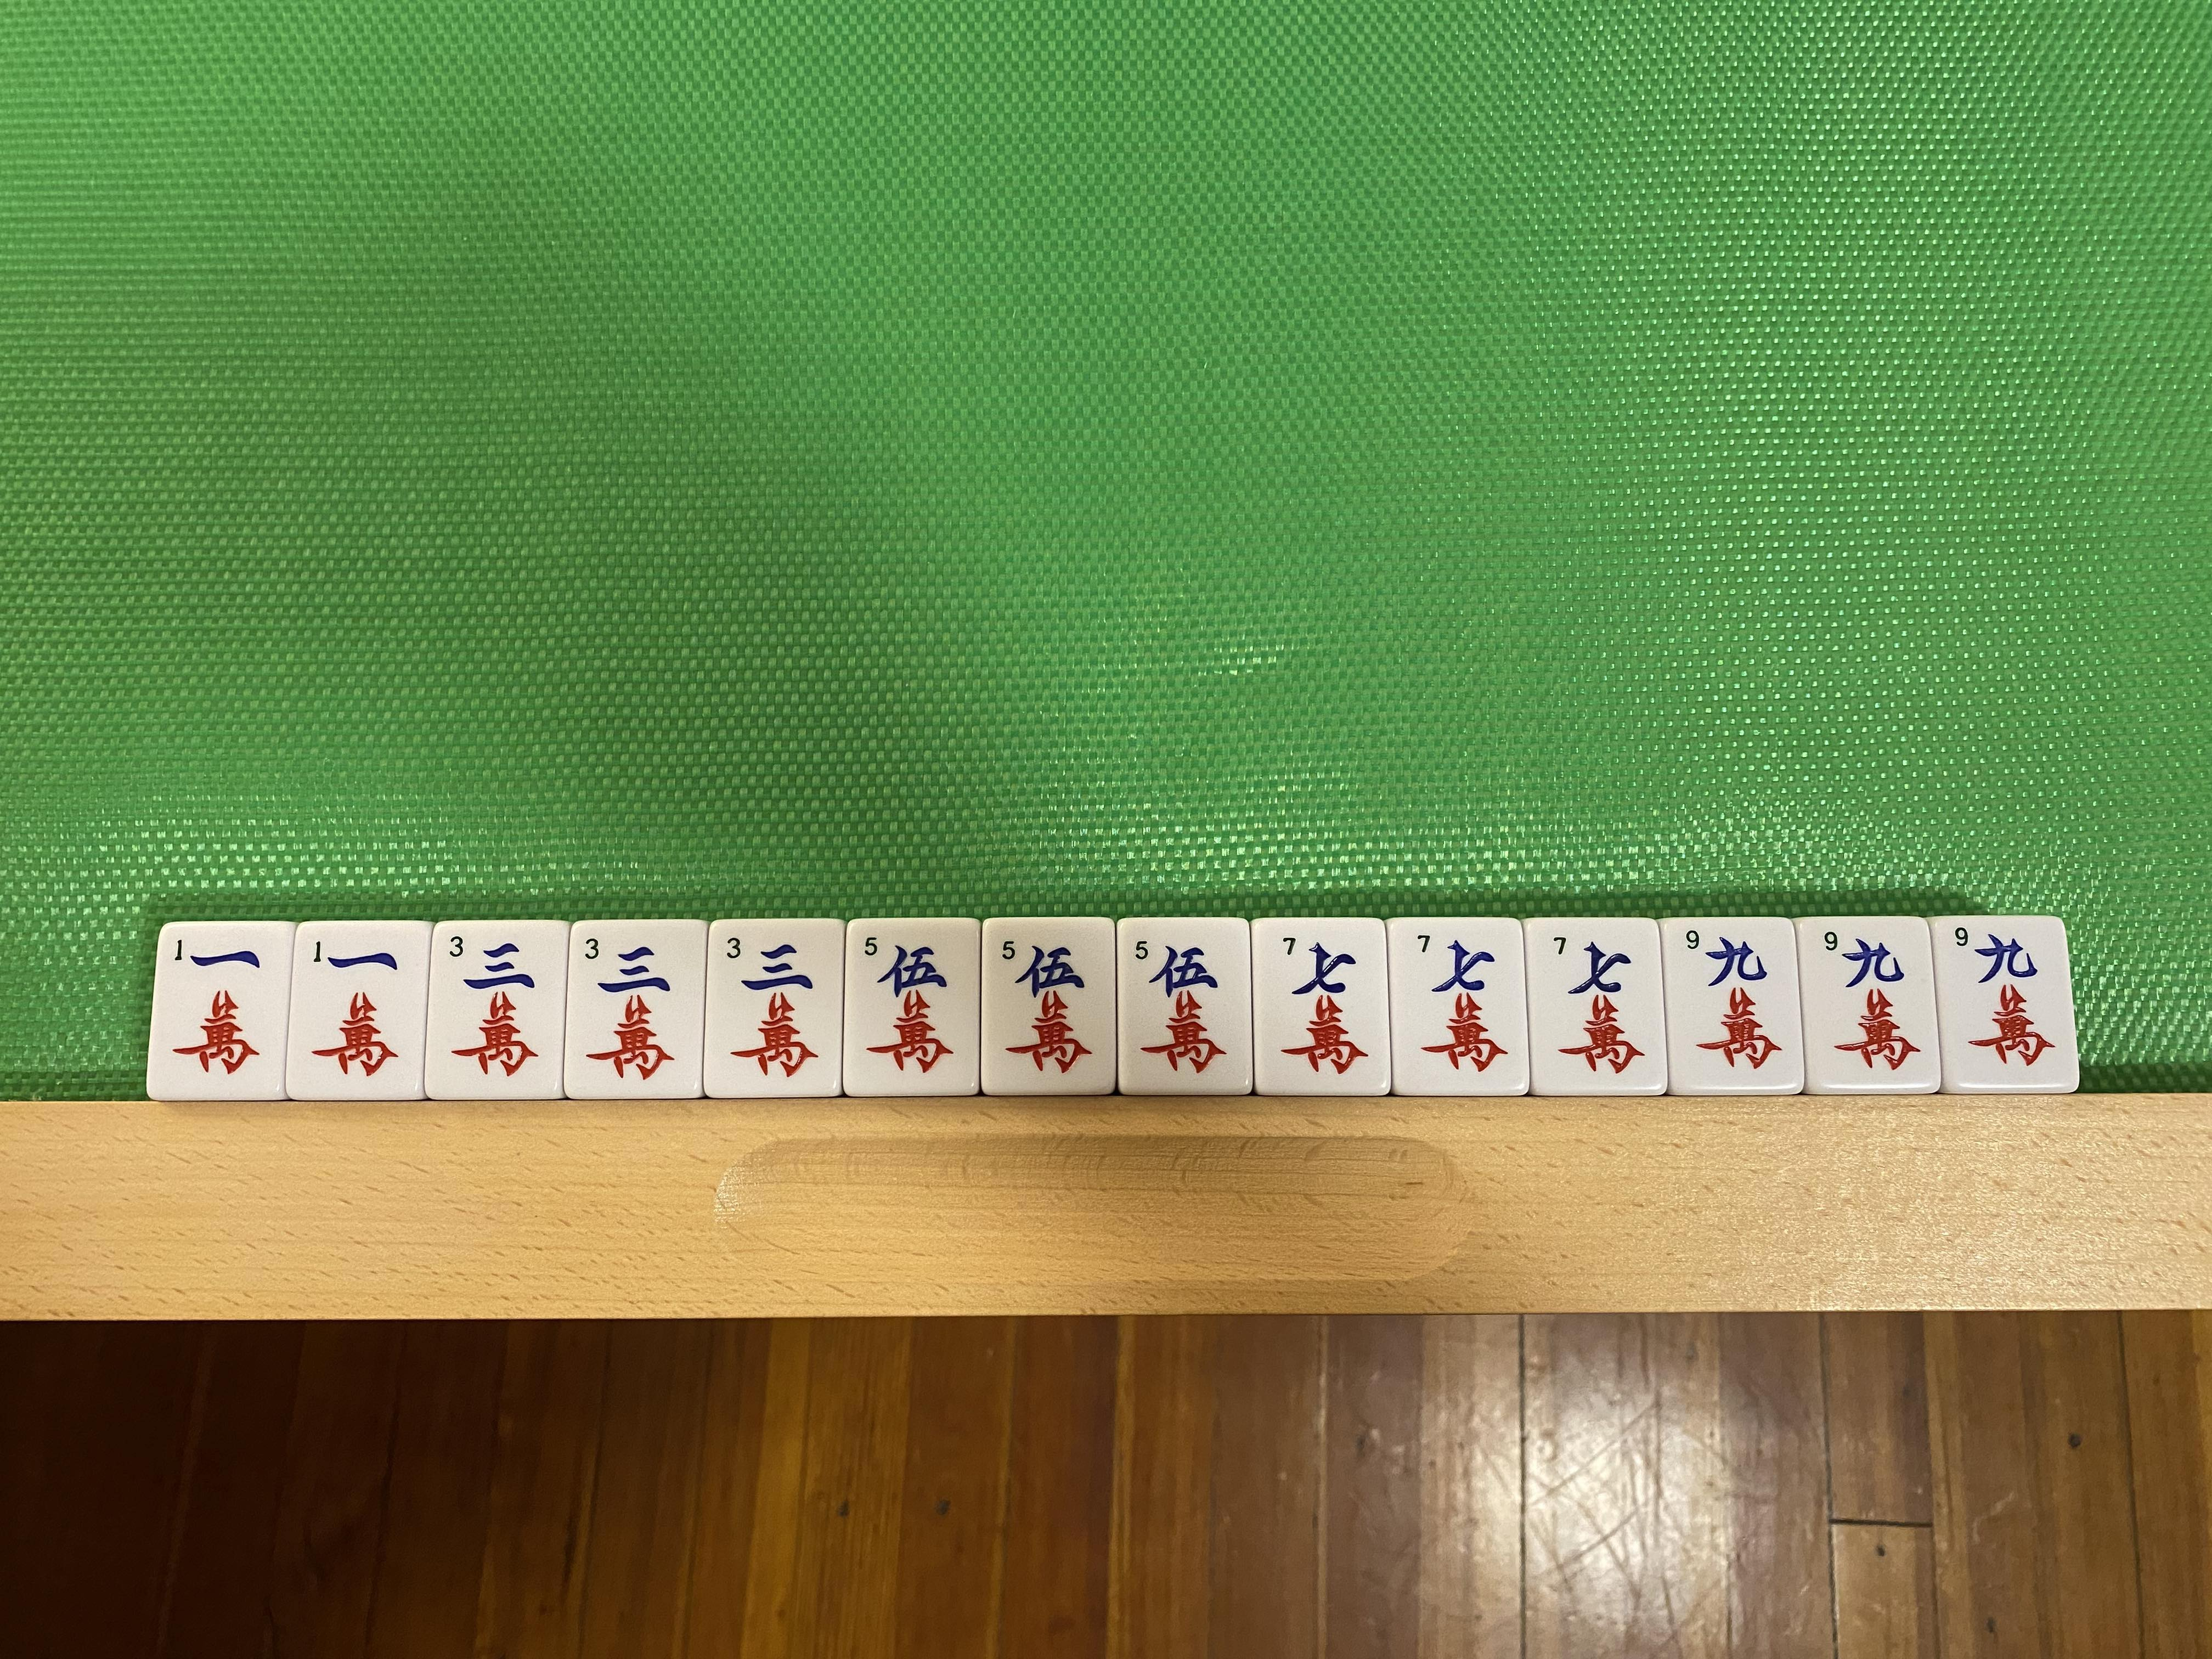character-five: (846, 922, 979, 1094), (984, 920, 1111, 1093), (1118, 920, 1247, 1089)
character-nine: (1806, 917, 1932, 1091), (1672, 918, 1796, 1094), (1946, 918, 2067, 1087)
character-one: (284, 925, 427, 1098), (157, 925, 279, 1096)
character-seven: (1256, 920, 1386, 1093), (1533, 920, 1660, 1096), (1395, 920, 1522, 1093)
character-three: (425, 922, 566, 1098), (568, 922, 705, 1096), (711, 920, 845, 1096)
